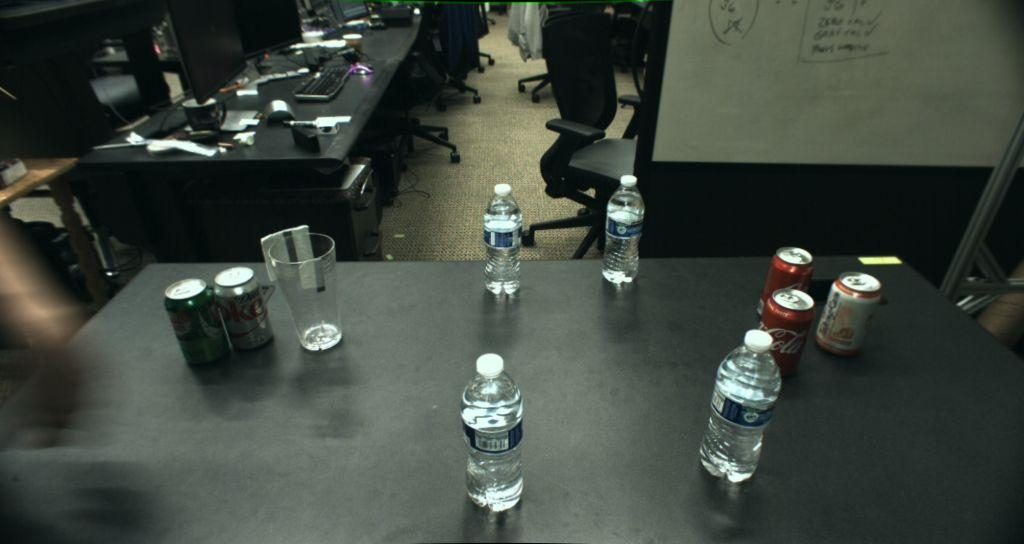can_diet_coke: (214, 266, 273, 350)
can_ginger_ale: (165, 278, 229, 364)
can_talking_rain_peach_nectarine: (815, 272, 881, 357)
water_bottle: (700, 329, 781, 483), (461, 353, 524, 512), (602, 175, 644, 284), (483, 183, 522, 294)
